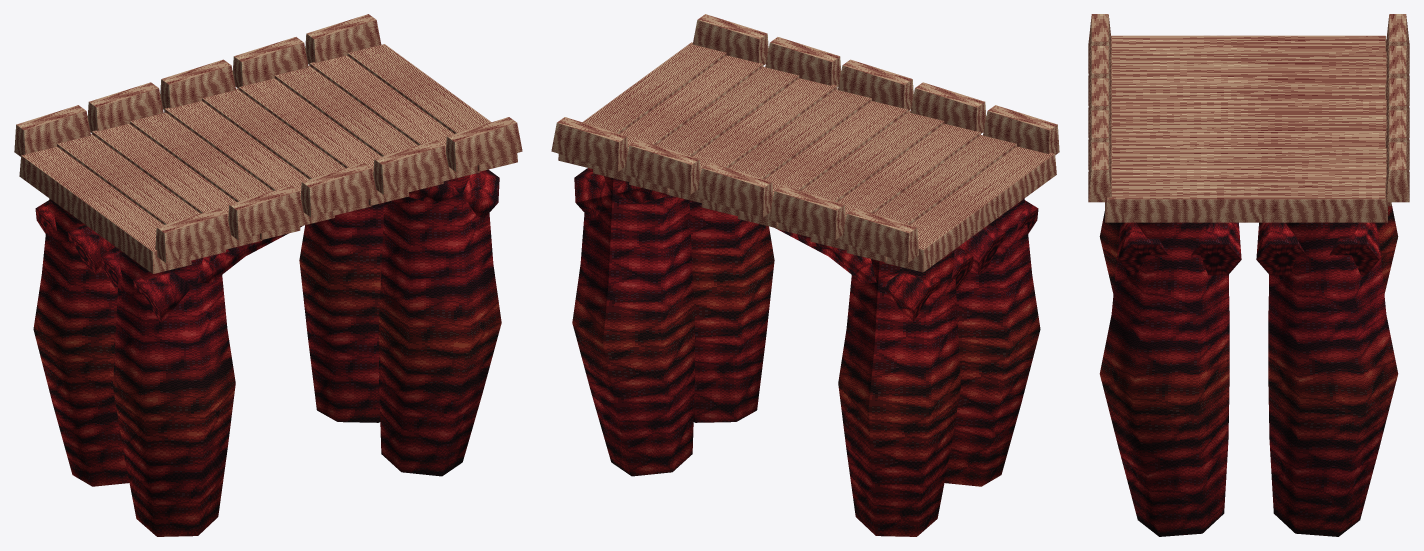
Rendered from Bridge_StairSpan_West.glb.
The picture shows the model from 3 angles, left to right: view 1: azimuth 30°, elevation 25°; view 2: azimuth 150°, elevation 25°; view 3: azimuth 270°, elevation 25°; orthographic projection. The views are drawn at different scales.
Parts seen in each view (by area): view 1: WestBridge_UnderRibs, WestBridge_Stairs; view 2: WestBridge_UnderRibs, WestBridge_Stairs; view 3: WestBridge_UnderRibs, WestBridge_Stairs.
Boxes of the visible parts, x1,y1,x2,y2 form: WestBridge_UnderRibs: (33,169,501,536); WestBridge_Stairs: (14,14,522,273); WestBridge_UnderRibs: (572,168,1040,536); WestBridge_Stairs: (551,14,1059,272); WestBridge_UnderRibs: (1099,204,1398,536); WestBridge_Stairs: (1088,14,1409,222).
Bounding box in the file's own units: 9.06 × 8.48 × 6.52.
Materials: 2 (2 with a texture image).
